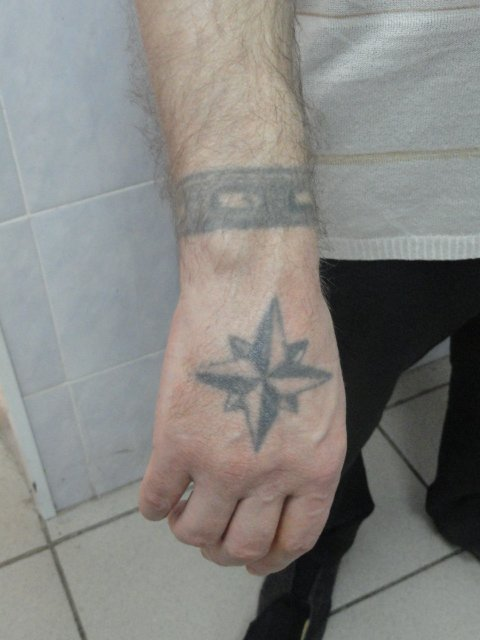tatu4_zvezda: (201, 296, 334, 454)
